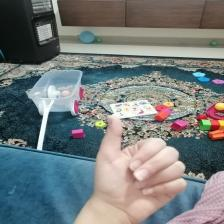five: (94, 114, 188, 209)
